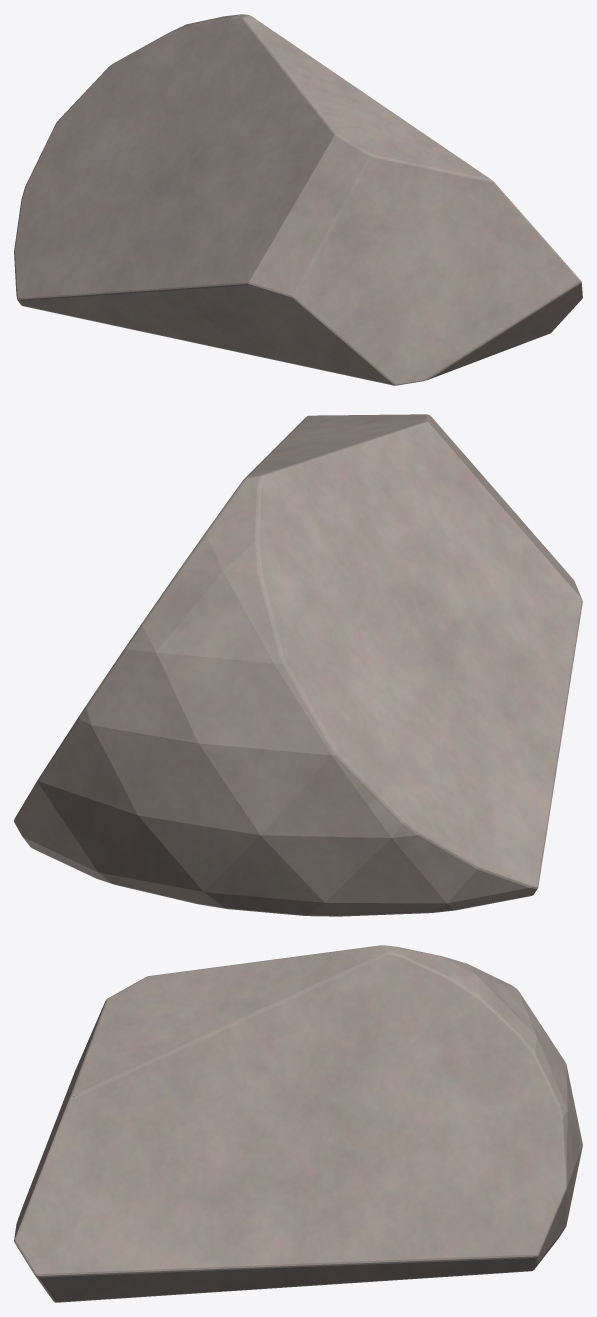
File: shard_rock.glb
The picture shows the model from 3 angles, top to bottom: view 1: azimuth 30°, elevation 25°; view 2: azimuth 150°, elevation 25°; view 3: azimuth 270°, elevation 25°; orthographic projection. The views are drawn at different scales.
Visible parts, largest first — view 1: shard_rock; view 2: shard_rock; view 3: shard_rock.
Part boxes in pixels (x1=…): shard_rock: x1=14, y1=14, x2=582, y2=385; shard_rock: x1=14, y1=414, x2=582, y2=916; shard_rock: x1=14, y1=945, x2=582, y2=1302.
Size of the model in its own units: 1.35 by 0.8029 by 1.52.
Materials: 1 (1 with a texture image).
